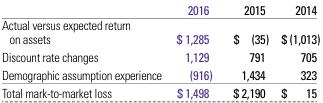table: (0, 1, 319, 100)
table column: (0, 1, 168, 100), (168, 1, 222, 100), (222, 1, 274, 100), (274, 1, 319, 100)
table column header: (0, 1, 319, 17)
table row: (0, 17, 319, 47), (0, 47, 319, 65), (0, 65, 319, 83), (0, 83, 319, 100), (0, 1, 319, 17)
